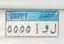5: (25, 23, 32, 34), (19, 24, 25, 34), (13, 24, 18, 33), (7, 24, 12, 33)
alif: (34, 23, 40, 34)
laam: (50, 23, 57, 34)
waw: (41, 24, 49, 34)
